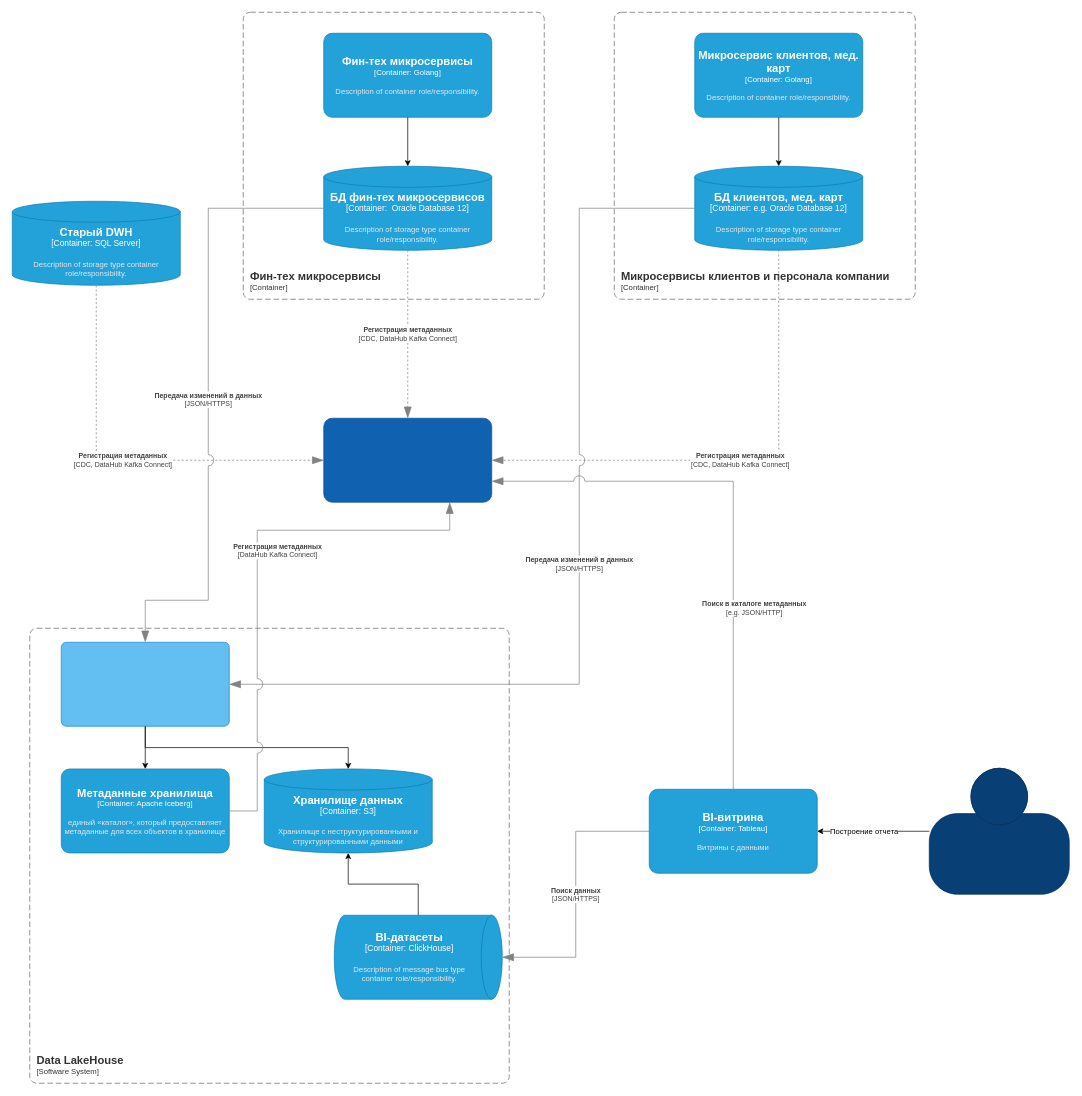
Some shapes in this 1082 by 1096 pixel diagram are drawn without their labels. Here are the shapes that lost their labels. From the top down, the centre of each, then its label:
At (407,460): "DataHub [DataCatalog] Каталог данных, lineage, поиск, доступы".
At (145,684): "ETL/ELT [Component: Apache Airflow] Слой для трансформации данных".
At (999,831): "Аналитик [Person] Description of person.".
